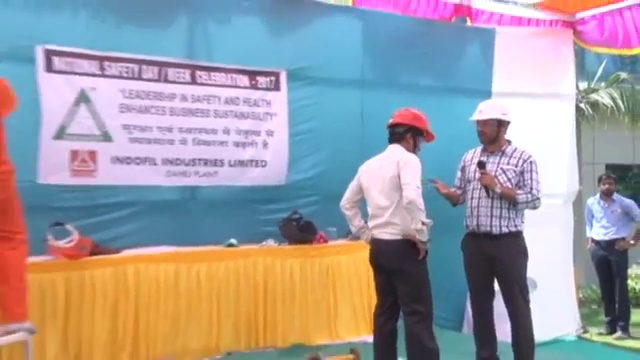helmet: (387, 106, 437, 144), (467, 97, 514, 125)
helmet_off: (596, 172, 617, 199)
helmet_on: (384, 105, 438, 157), (465, 98, 515, 152)
person: (432, 98, 542, 360), (335, 105, 444, 360), (582, 171, 640, 343)
